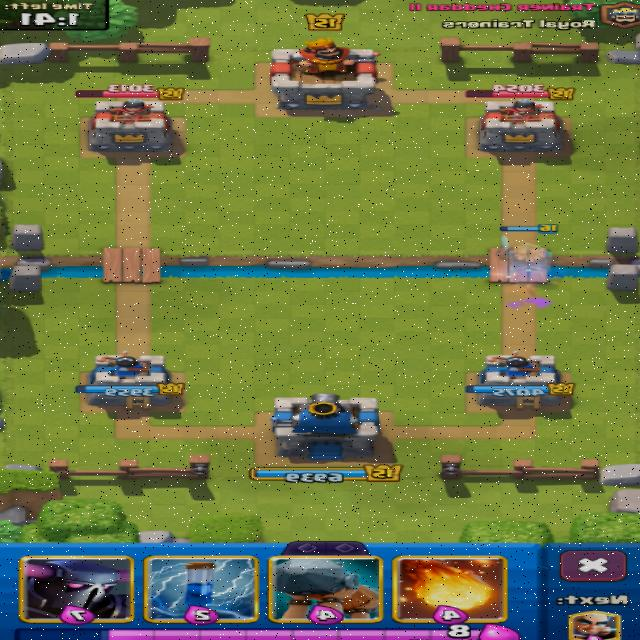Enemy-KingTower: (271, 38, 376, 111)
Enemy-PrincessTower: (90, 98, 172, 152), (480, 99, 563, 152)
Player-KingTower-Activated: (271, 393, 380, 460)
Player-PrincessTower: (466, 352, 574, 409), (77, 352, 172, 408)
Player-RoyalGhost: (500, 236, 550, 269)
